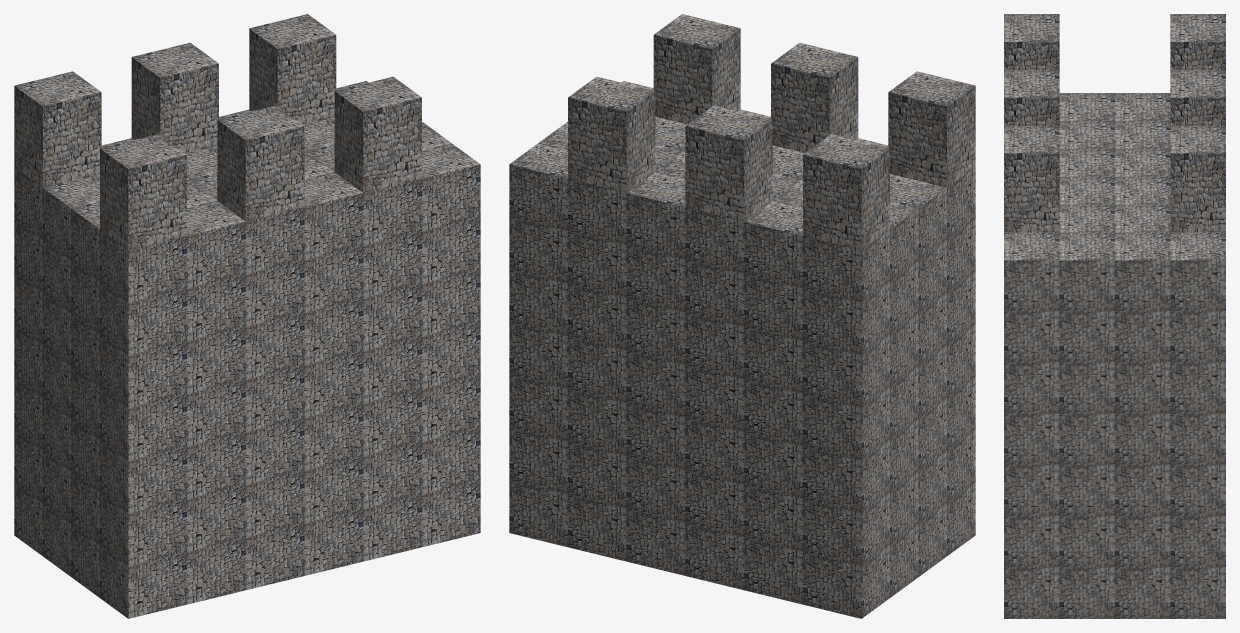
File: wall.fbx
3 views of the same model, side by side, from view 1: azimuth 30°, elevation 25°; view 2: azimuth 150°, elevation 25°; view 3: azimuth 270°, elevation 25° (orthographic). The views are drawn at different scales.
Parts seen in each view (by area): view 1: Cube; view 2: Cube; view 3: Cube.
Boxes of the visible parts, <box> form: Cube: <box>14,14,480,618</box>; Cube: <box>509,14,975,618</box>; Cube: <box>1004,14,1225,618</box>.
Size of the model in its own units: 2 by 2.44 by 1.12.
